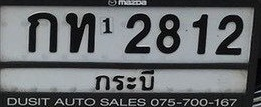txt01: (25, 11, 60, 54)
txt18: (64, 11, 97, 54)
